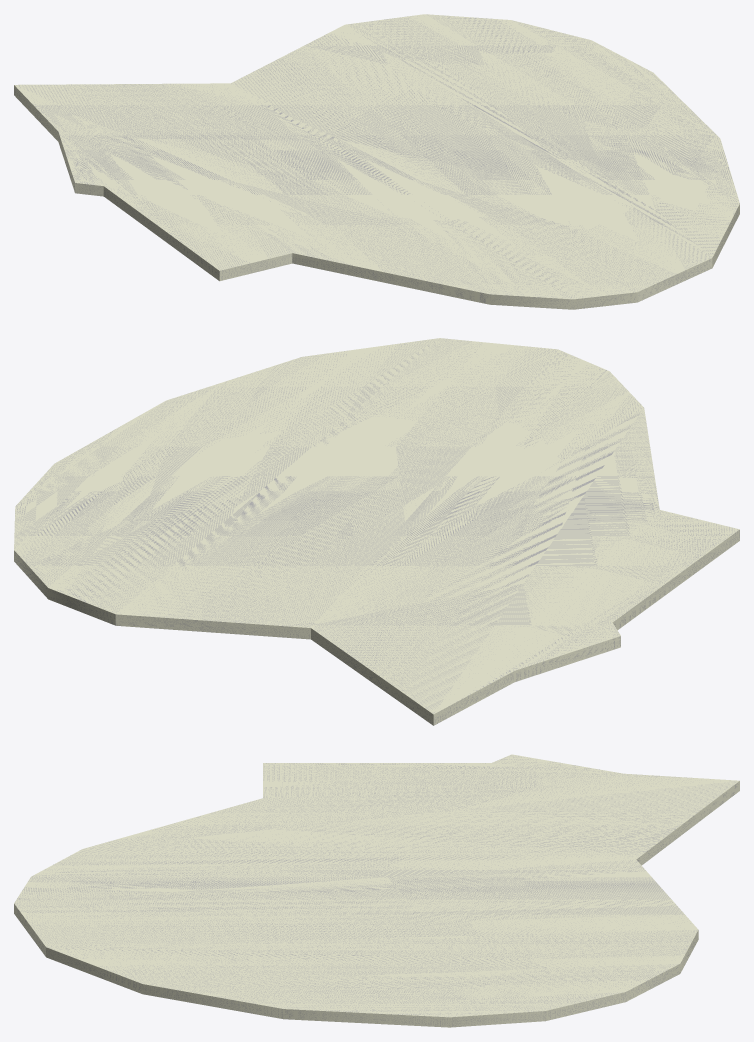
The model's file is original-8.obj.
3 views of the same model, one above another, from view 1: azimuth 30°, elevation 25°; view 2: azimuth 150°, elevation 25°; view 3: azimuth 270°, elevation 25° (orthographic). The views are drawn at different scales.
Visible parts, largest first — view 1: mesh6/mesh6-geometry#mesh6-geometry; view 2: mesh6/mesh6-geometry#mesh6-geometry; view 3: mesh6/mesh6-geometry#mesh6-geometry.
Part boxes in pixels (x1,y1,x2,y2): mesh6/mesh6-geometry#mesh6-geometry: [14, 14, 739, 309]; mesh6/mesh6-geometry#mesh6-geometry: [14, 338, 739, 725]; mesh6/mesh6-geometry#mesh6-geometry: [14, 754, 739, 1027].
Bounding box in the file's own units: 0.0363 × 0.000658 × 0.0423.
